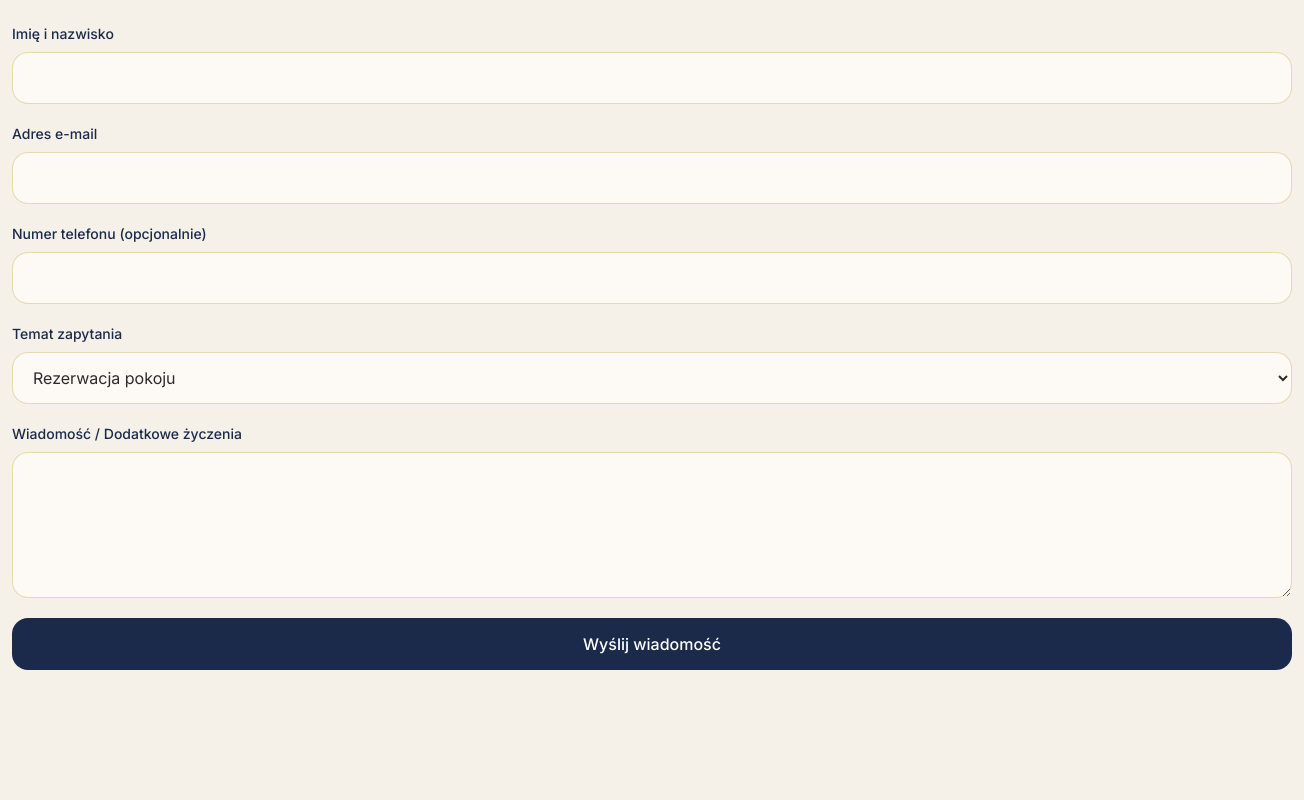
Test case: ContactForm submission › shows the rate-limit message on 429
Step 1. Type "Anna Test" into the field labelled "Imię i nazwisko" → (652, 78), box [12, 52, 1292, 104]
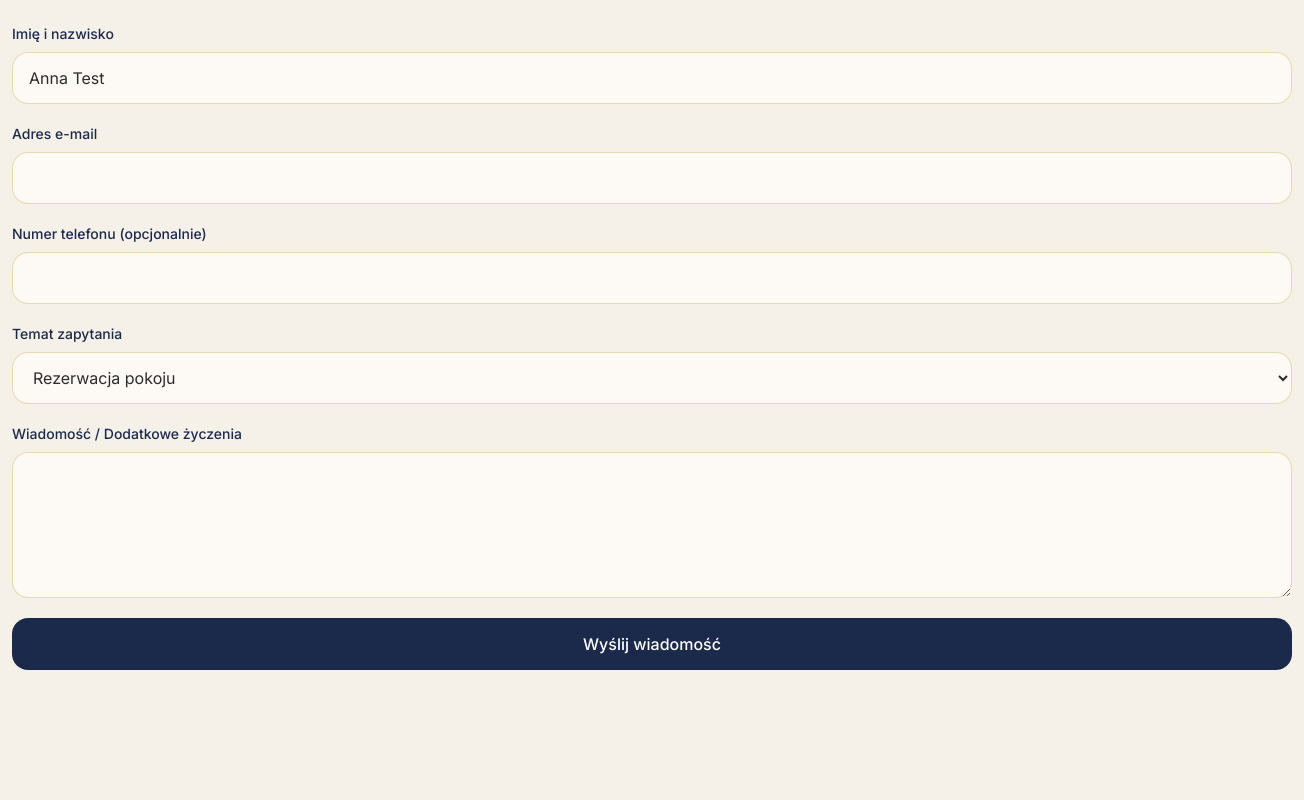
Step 2. Type "anna@example.test" into the field labelled "Adres e-mail" → (652, 178), box [12, 152, 1292, 204]
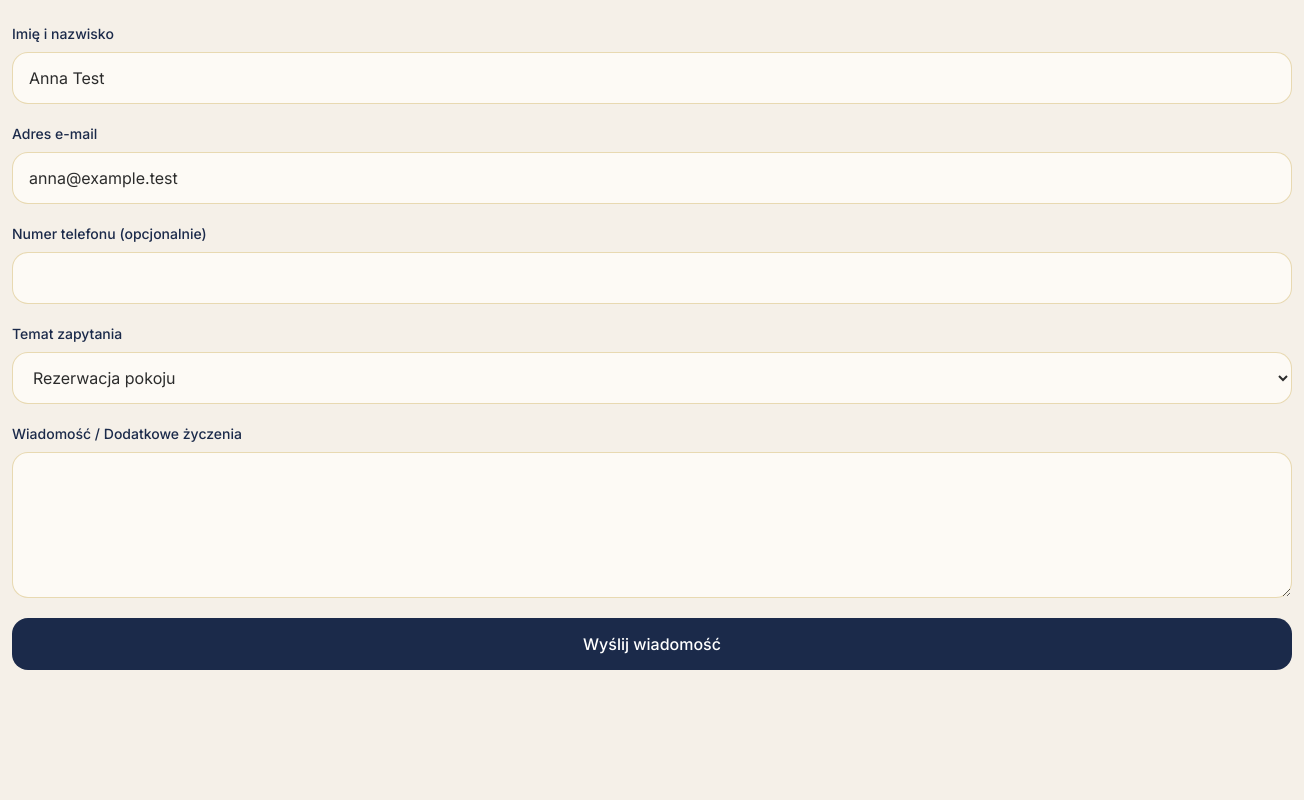
Step 3. Type "Hello" into the text box labelled "Wiadomość / Dodatkowe życzenia" → (652, 525), box [12, 452, 1292, 598]
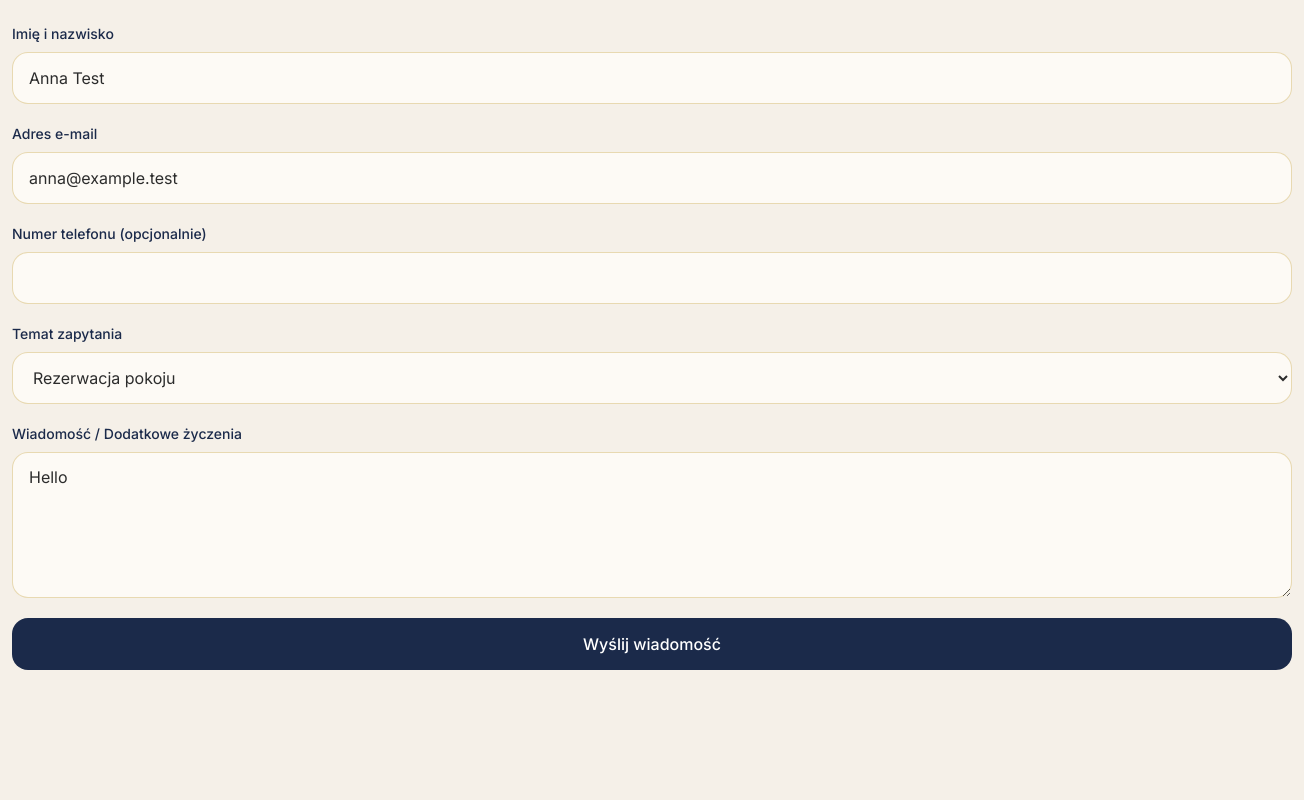
Step 4. Click the button "Wyślij wiadomość" → (652, 644), box [12, 618, 1292, 670]
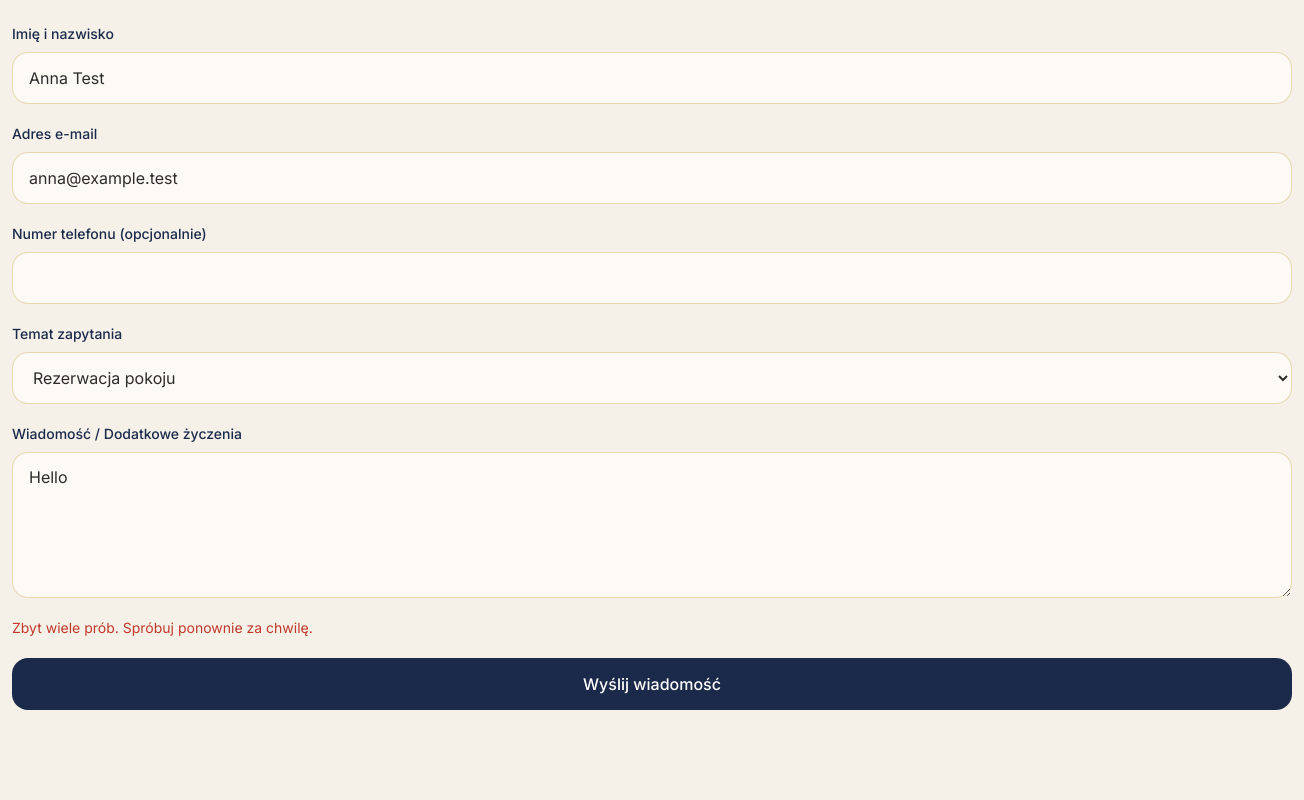
Check: the text "Zbyt wiele prób. Spróbuj ponownie za chwilę." is shown, box [12, 619, 313, 636]
